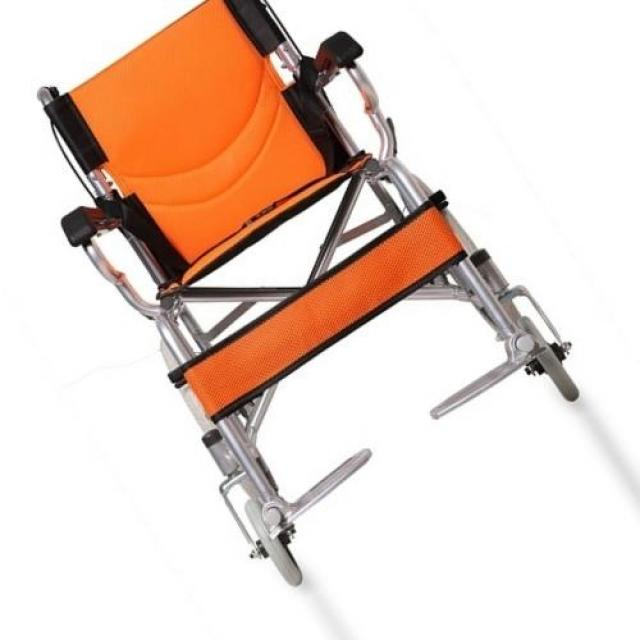wheelchair: (37, 2, 612, 598)
